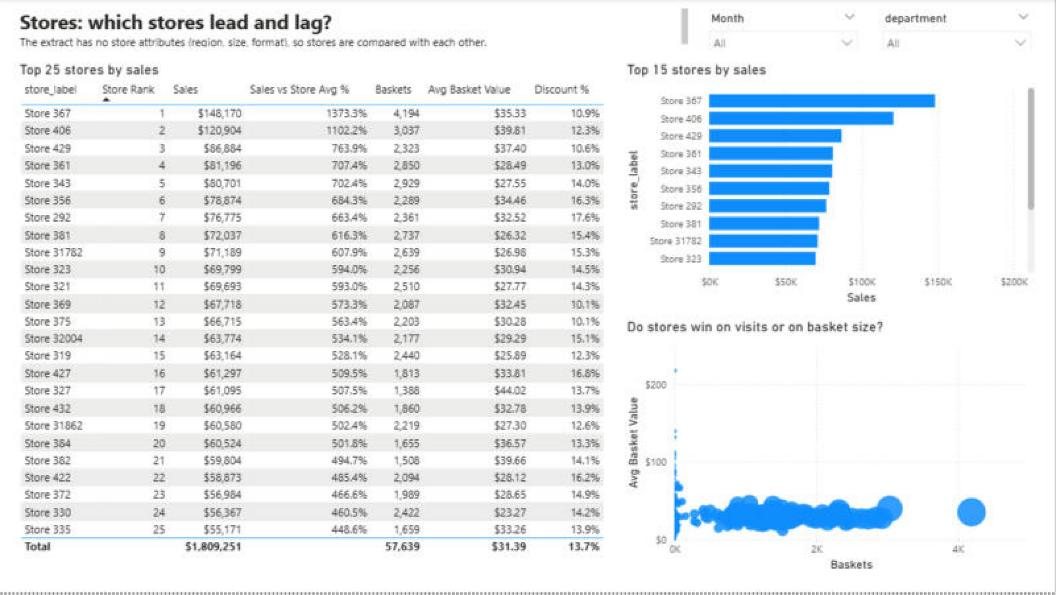

The page's visual inventory and layout, read from the dashboard file:
{"tool":"powerbi","page":{"name":"Stores","canvas":[1280,720],"ordinal":1},"visuals":[{"type":"textbox","box":[20,8,820,56],"z":1000},{"type":"slicer","fields":{"Values":["Dim_Date.Month"]},"box":[850,10,200,52],"z":2000},{"type":"slicer","fields":{"Values":["Dim_Product.department"]},"box":[1060,10,200,52],"z":3000},{"type":"tableEx","title":"Top 25 stores by sales","fields":{"Values":["Dim_Store.store_label","_Measures.Store Rank","_Measures.Sales","_Measures.Sales vs Store Avg %","_Measures.Baskets","_Measures.Avg Basket Value","_Measures.Discount %"]},"box":[20,76,720,624],"z":4000},{"type":"clusteredBarChart","title":"Top 15 stores by sales","fields":{"Category":["Dim_Store.store_label"],"Y":["_Measures.Sales"]},"box":[756,76,504,300],"z":5000},{"type":"scatterChart","title":"Do stores win on visits or on basket size?","fields":{"Category":["Dim_Store.store_label"],"X":["_Measures.Baskets"],"Y":["_Measures.Avg Basket Value"],"Size":["_Measures.Sales"]},"box":[756,388,504,312],"z":6000}]}

Visuals, with their boxes in screenshot pixels (x1, y1, x2, y2), scaled from the page's 1280x720 canvas onto the 1056x595 screenshot:
textbox: box(16, 7, 693, 53)
slicer - Dim_Date.Month: box(701, 8, 866, 51)
slicer - Dim_Product.department: box(874, 8, 1040, 51)
"Top 25 stores by sales" tableEx: box(16, 63, 610, 578)
"Top 15 stores by sales" clusteredBarChart: box(624, 63, 1040, 311)
"Do stores win on visits or on basket size?" scatterChart: box(624, 321, 1040, 578)
